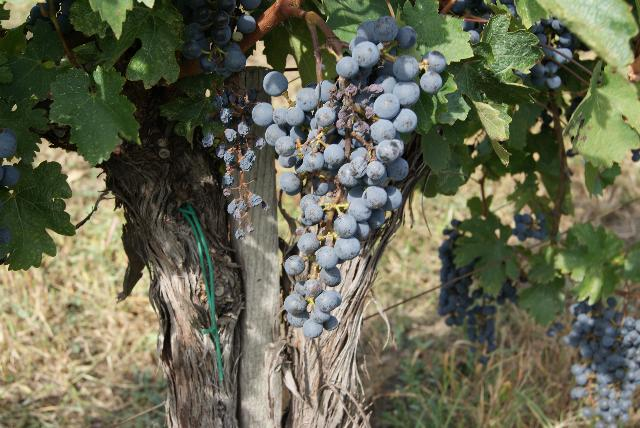grapes: (261, 15, 448, 339)
